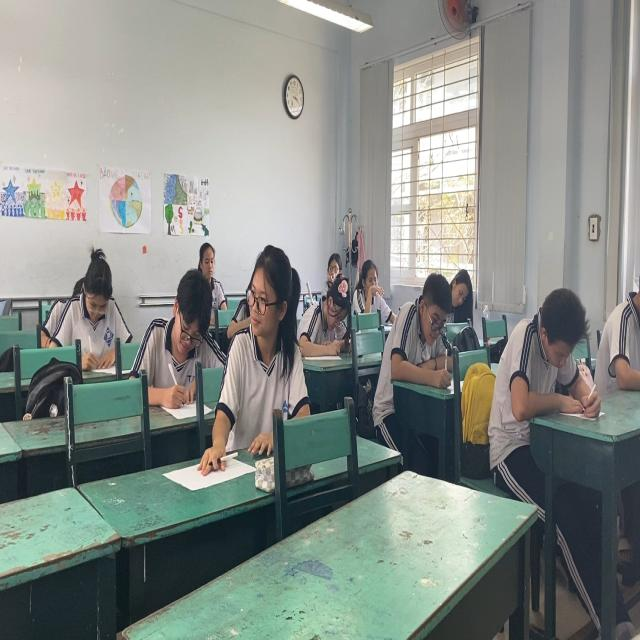cheating: (226, 250, 310, 423)
not_cheating: (494, 277, 609, 433), (144, 264, 226, 391), (59, 243, 127, 360), (392, 271, 456, 381), (296, 264, 350, 358), (339, 254, 391, 315), (192, 232, 232, 305), (448, 260, 474, 319)
